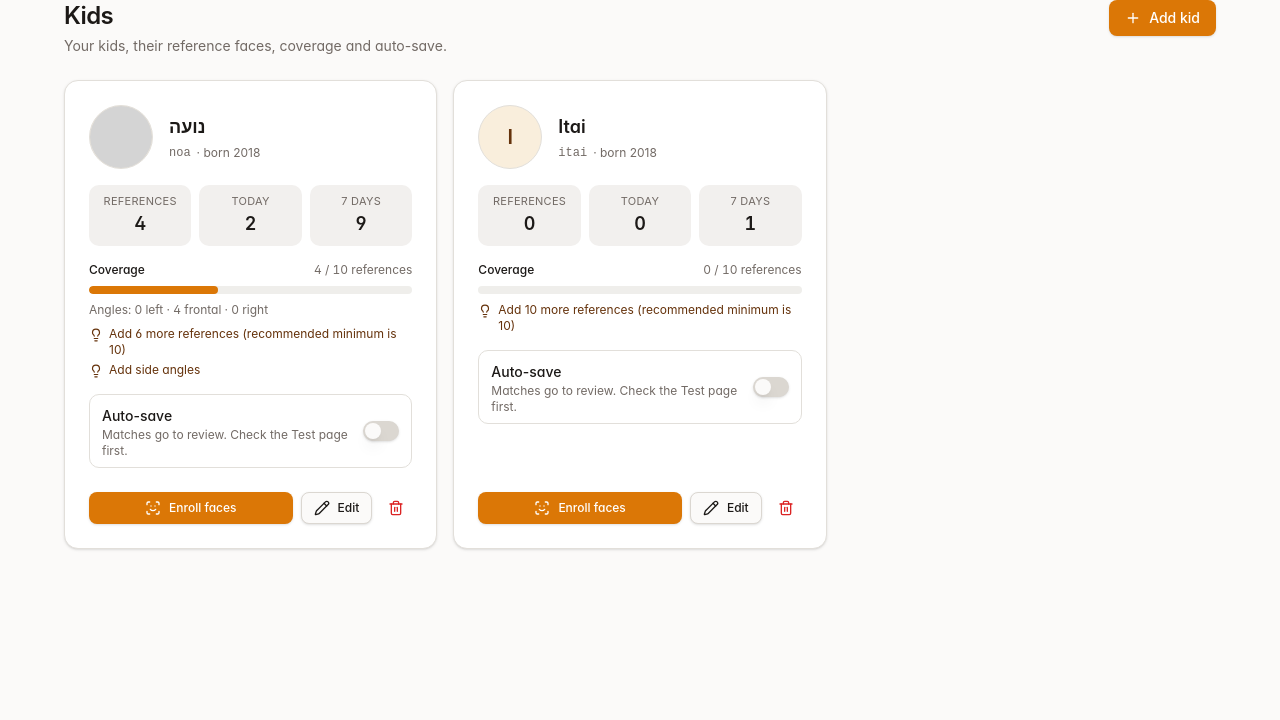
Test: KidsPage › edits a kid, sending only changed fields
The image size is (1280, 720).
Step 1. Click the button with aria-label "Edit נועה" → [336, 508], box [301, 492, 372, 524]
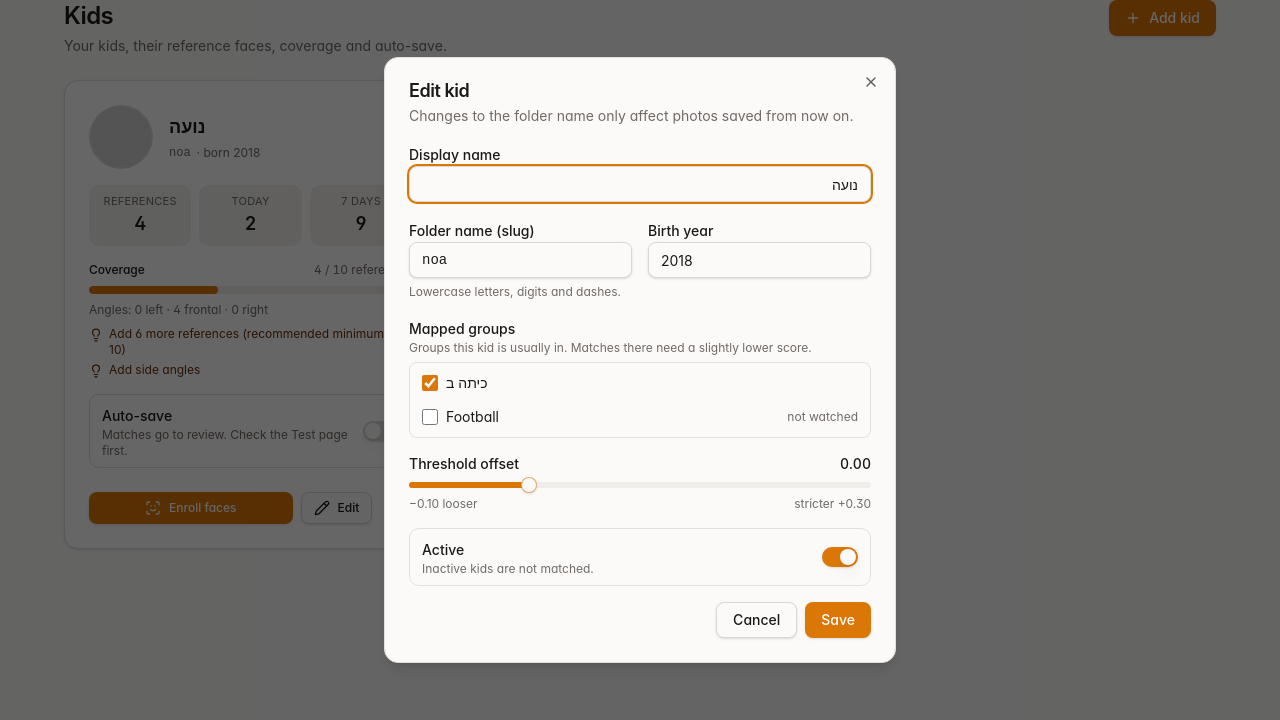
Check: the field labelled "Display name" holds "נועה", box [409, 166, 871, 202]
Step 2. Clear the number field labelled "Birth year" → [760, 260], box [648, 242, 871, 278]
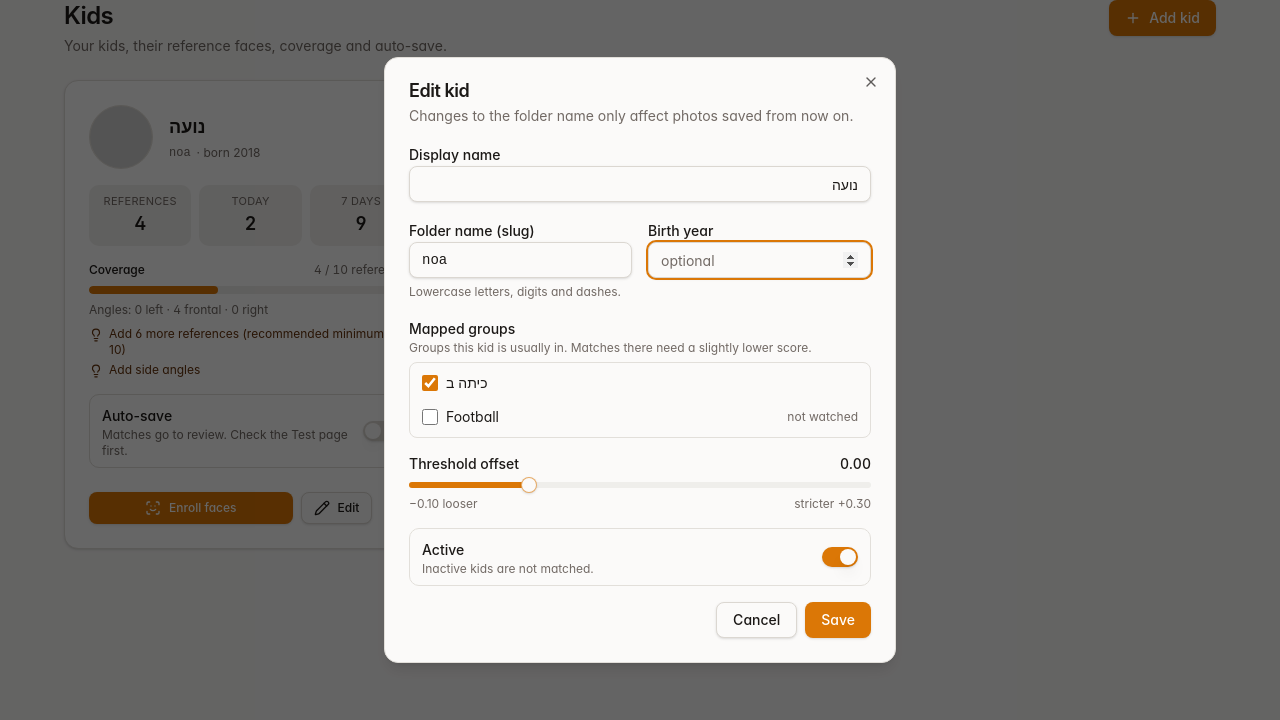
Step 3. Click the checkbox labelled "כיתה ב" → [430, 383], box [422, 375, 438, 391]
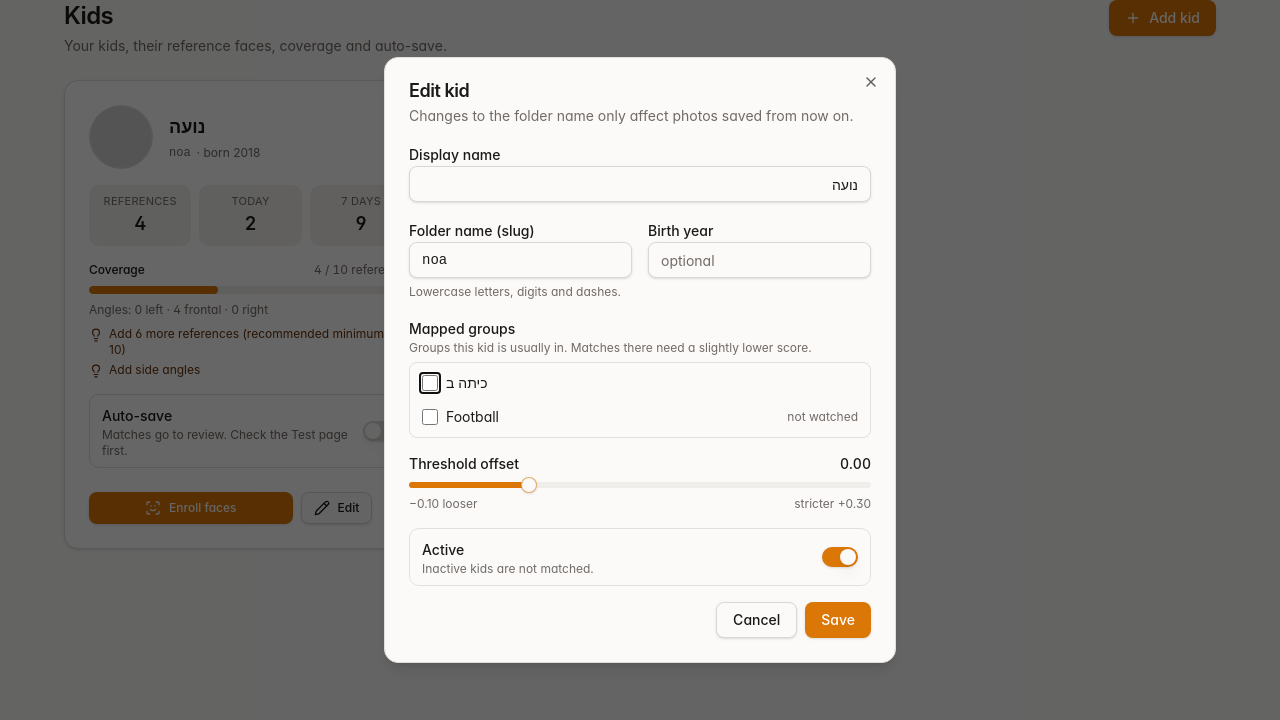
Step 4. Click the button "Save" → [838, 620], box [805, 602, 871, 638]
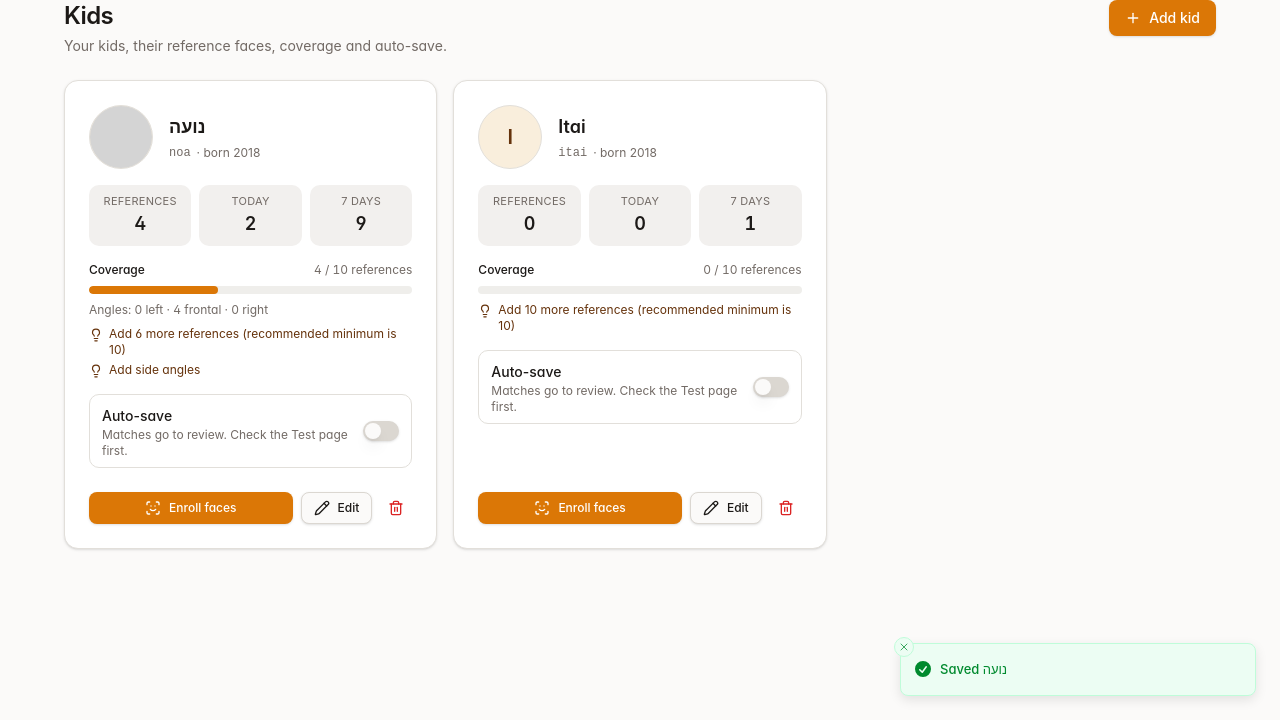
Check: the dialog is gone
